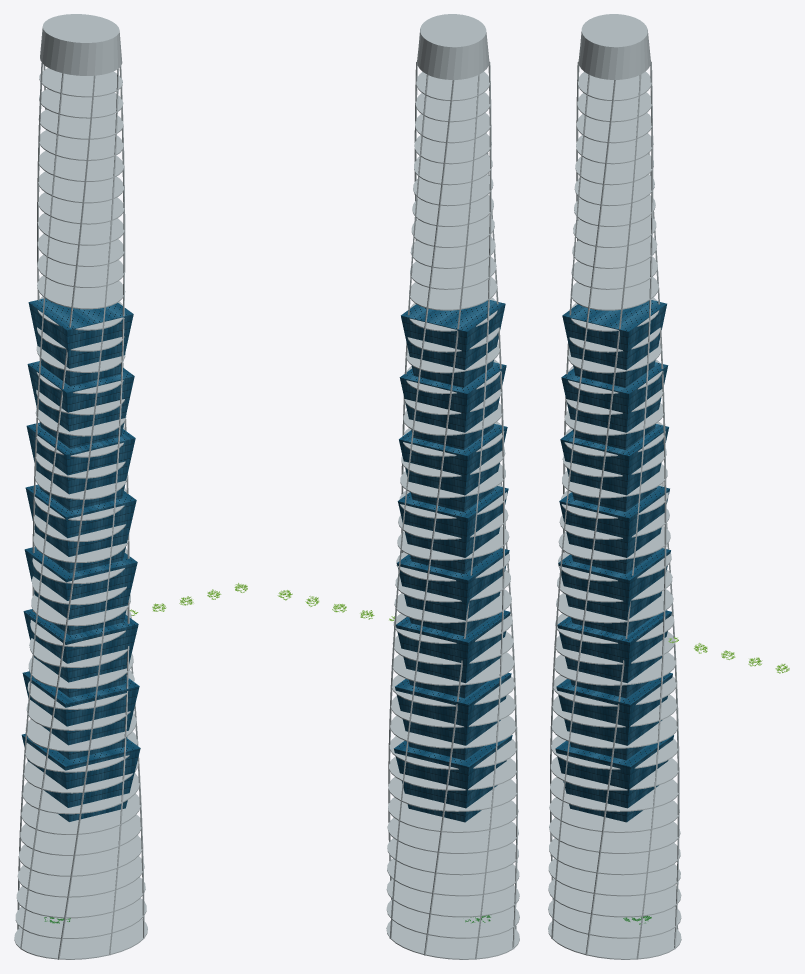
File: Catalog-45.glb
3 renders of one model, left to right at view 1: azimuth 30°, elevation 25°; view 2: azimuth 150°, elevation 25°; view 3: azimuth 330°, elevation 25°, orthographic.
Visible parts, largest first — view 1: Metropolis Silver, Metropolis Glass Cerulean; view 2: Metropolis Silver, Metropolis Glass Cerulean; view 3: Metropolis Silver, Metropolis Glass Cerulean.
Part boxes in pixels (box(x1,y1,x2,y2)): Metropolis Silver: box(14, 14, 147, 959); Metropolis Glass Cerulean: box(21, 298, 140, 821); Metropolis Silver: box(386, 14, 519, 959); Metropolis Glass Cerulean: box(394, 300, 512, 822); Metropolis Silver: box(548, 14, 681, 959); Metropolis Glass Cerulean: box(555, 300, 673, 822).
Size of the model in its own units: 169 by 632 by 73.18.
4 materials, 1 textured.
